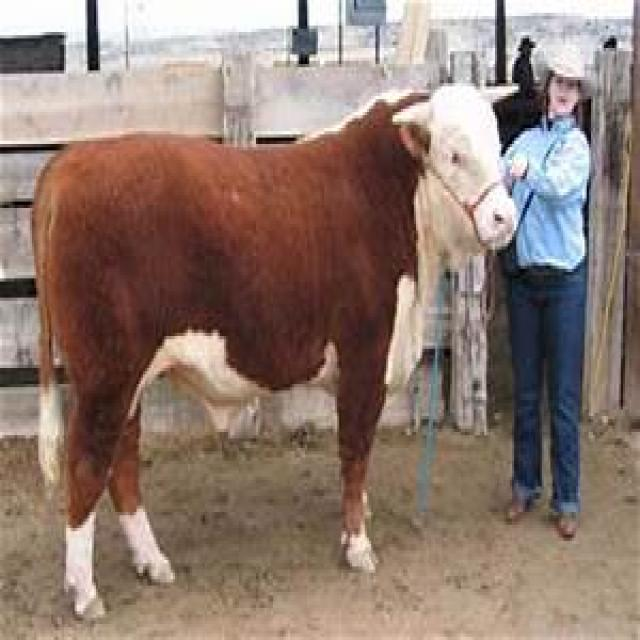cow: (30, 80, 516, 621)
